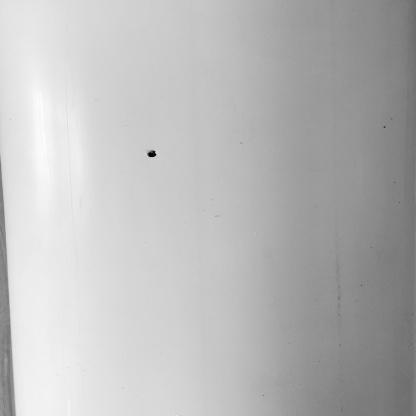kongdong: (144, 149, 161, 160)
